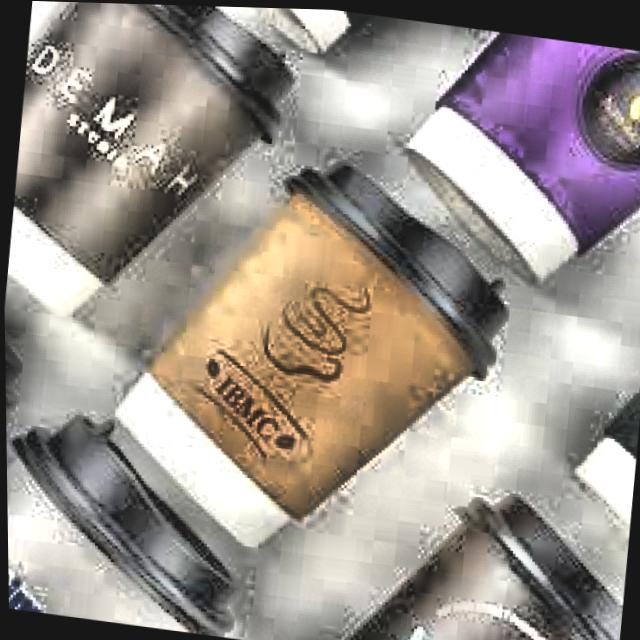Cup: (80, 120, 533, 619), (0, 0, 305, 348)
